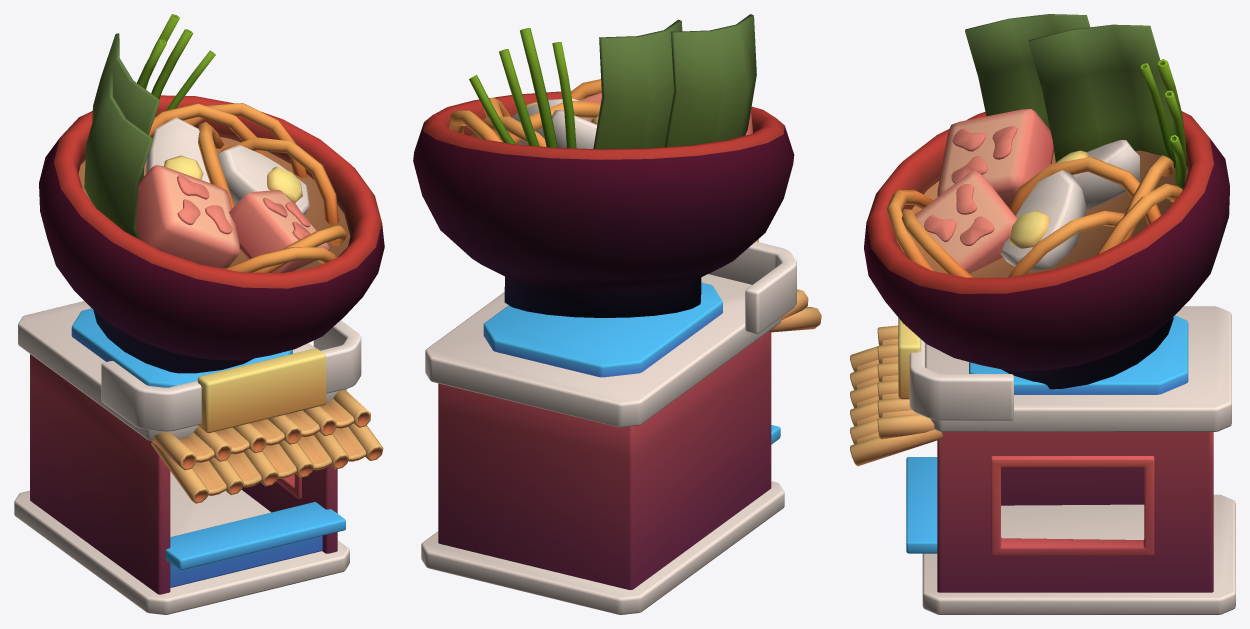
Rendered from lpb_store_ramen.fbx.
3 views of the same model, side by side, from view 1: azimuth 30°, elevation 25°; view 2: azimuth 150°, elevation 25°; view 3: azimuth 270°, elevation 25° (orthographic). The views are drawn at different scales.
Parts seen in each view (by area): view 1: Store.009; view 2: Store.009; view 3: Store.009.
Boxes of the visible parts, x1=… form: Store.009: x1=14, y1=14, x2=384, y2=614; Store.009: x1=413, y1=14, x2=821, y2=614; Store.009: x1=850, y1=14, x2=1235, y2=614.
Size of the model in its own units: 480 by 739 by 497.
